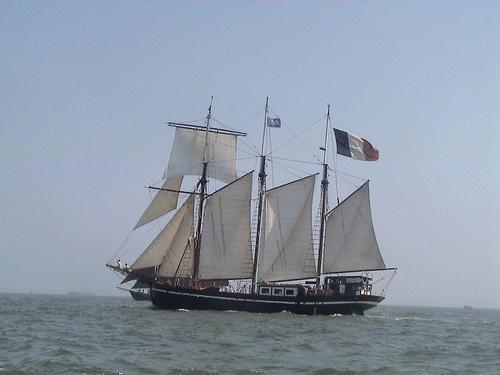Ship: (109, 94, 397, 319)
